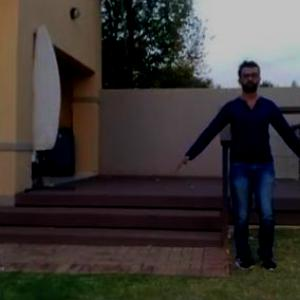land: (169, 60, 299, 279)
